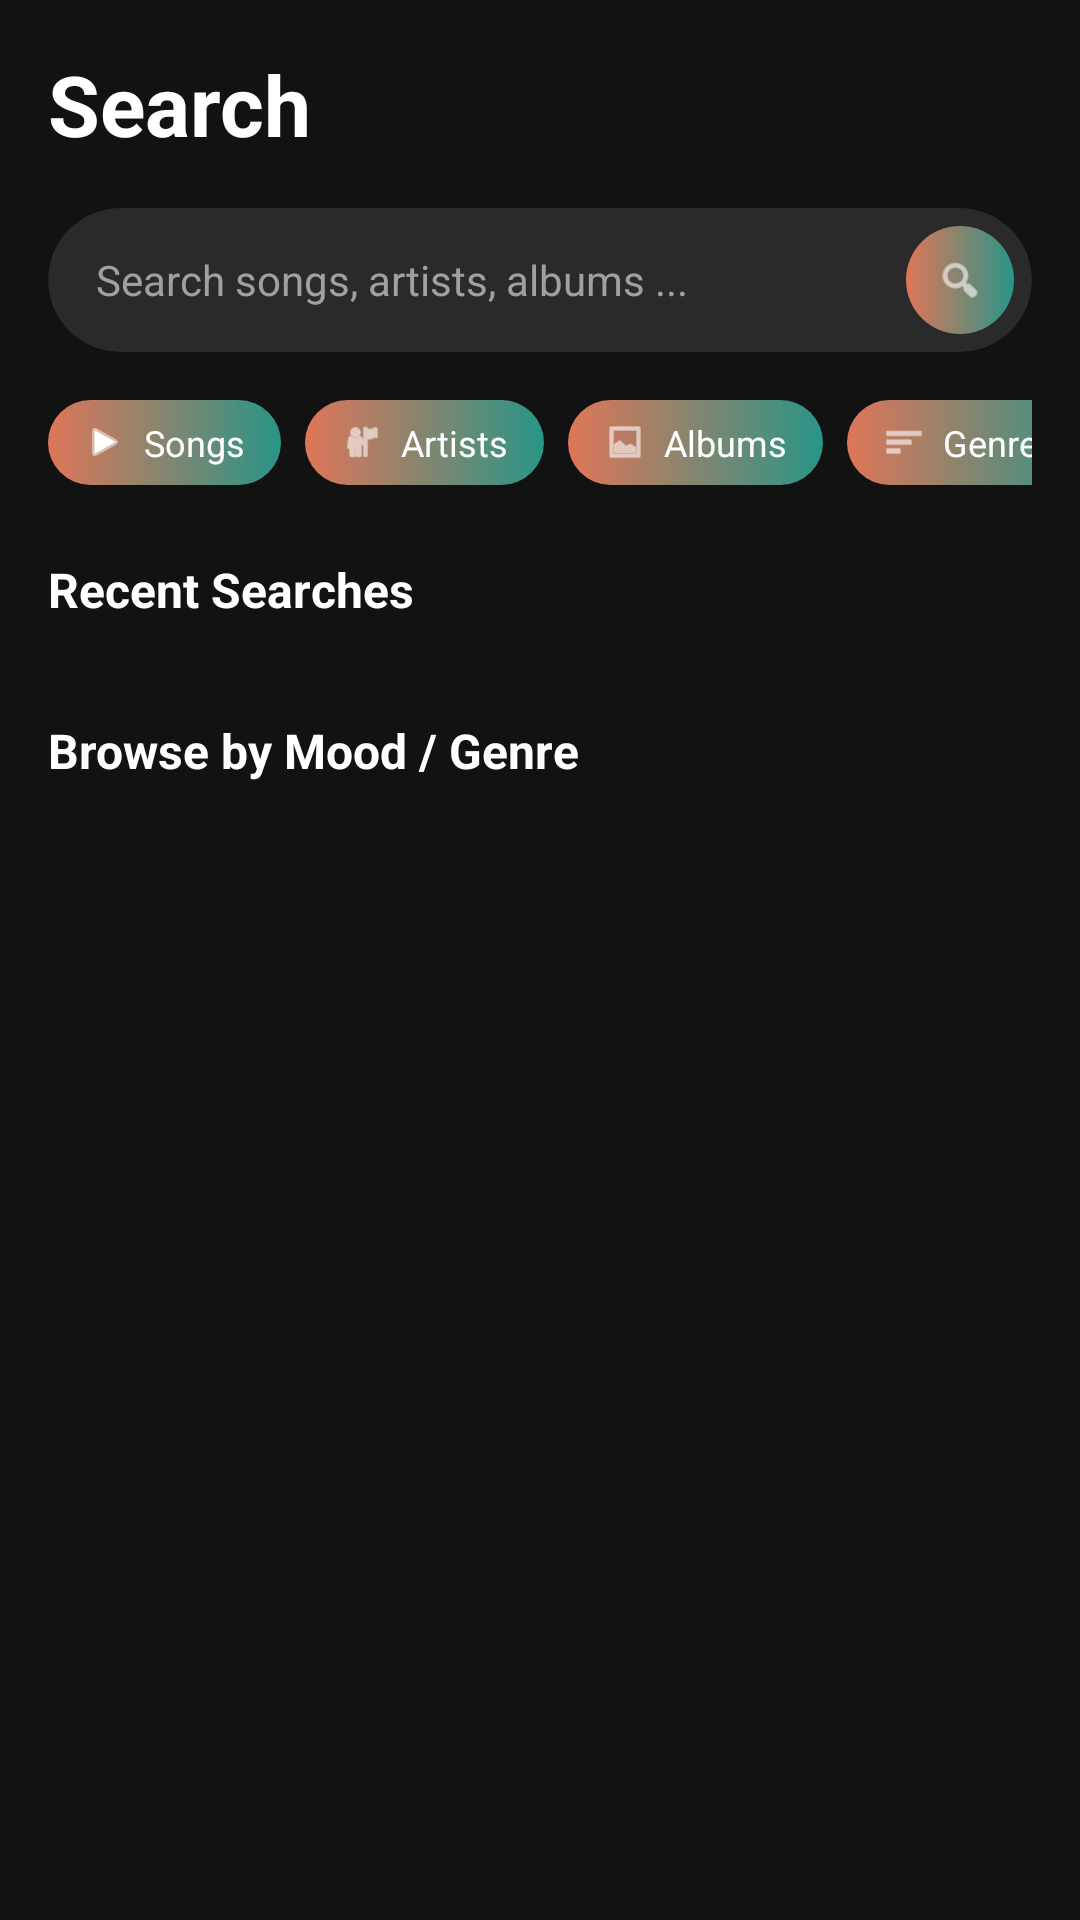

Point at icon controls on the screen. Image size 1080*1920, points as [x,y].
gallery: [622,442]
play: [105,442]
sort by size: [905,442]
